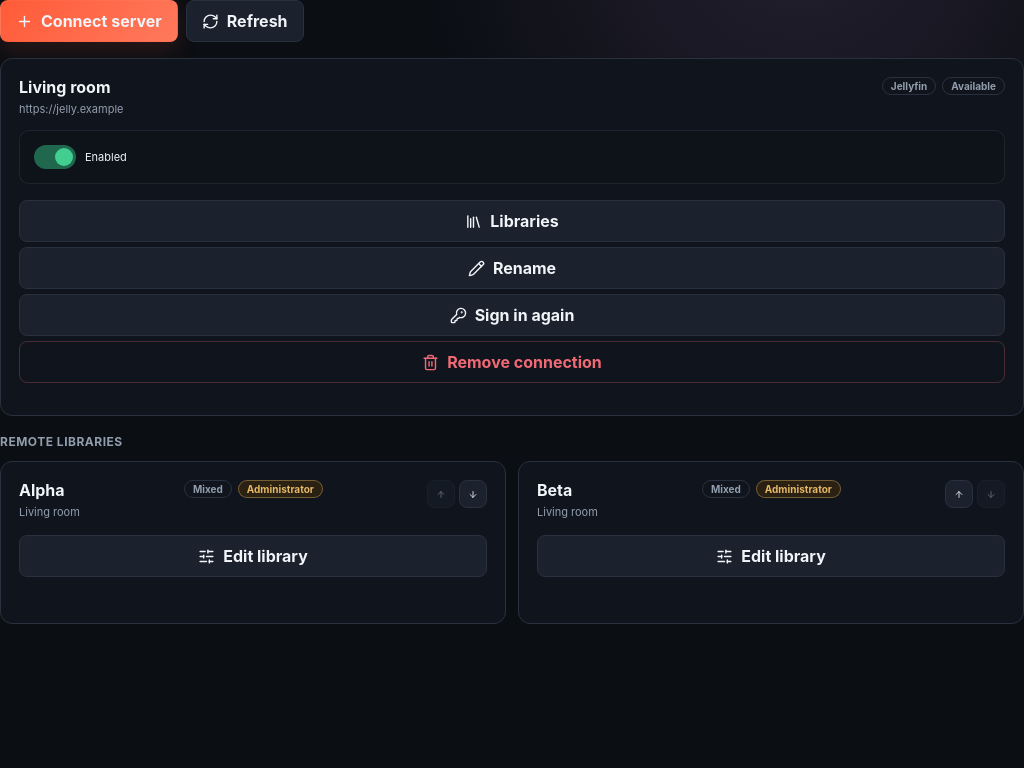
Test: RemoteLibraryDialog › has no ordering controls now that the overview owns the arrows
Click the button "Edit library" below "Alpha". click: (253,556)
box: x1=19 y1=535 x2=487 y2=577
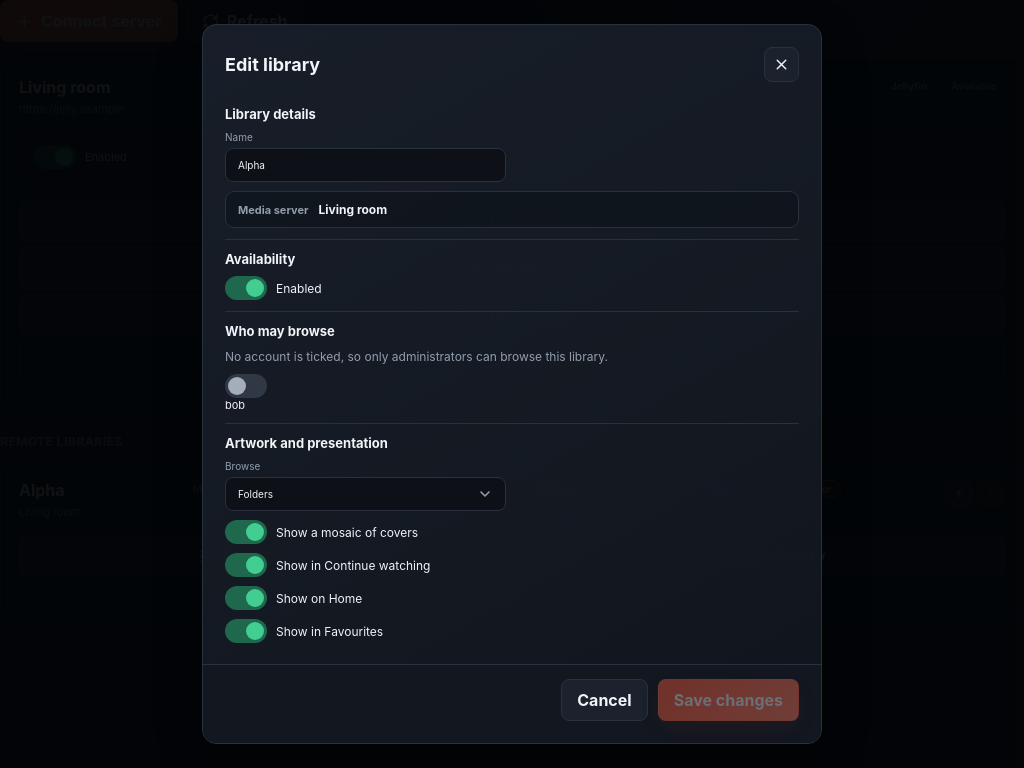
Now the element with class "library-edit-card" is shown, box x1=202 y1=24 x2=822 y2=744
